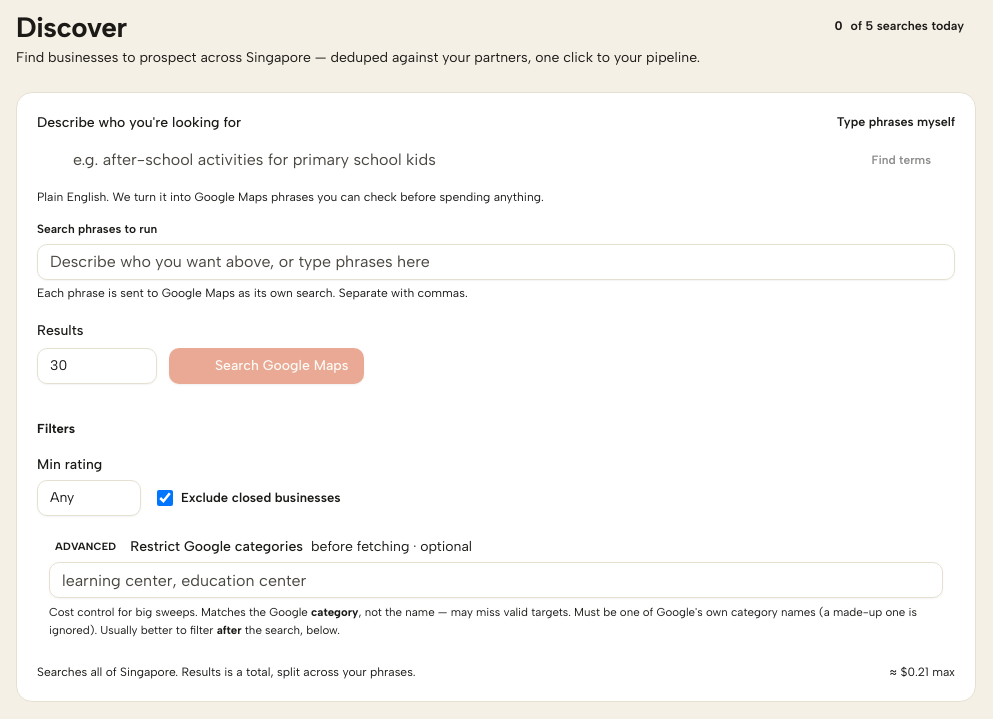
Scenario: DiscoverPage › AI suggest populates the terms field and never starts a paid search
# AI is the DEFAULT mode — the description box is there without revealing it.
Step 1. Type "martial arts for kids" into the field labelled "Describe who you're looking for" → {"x": 462, "y": 160}, box [73,144,851,176]
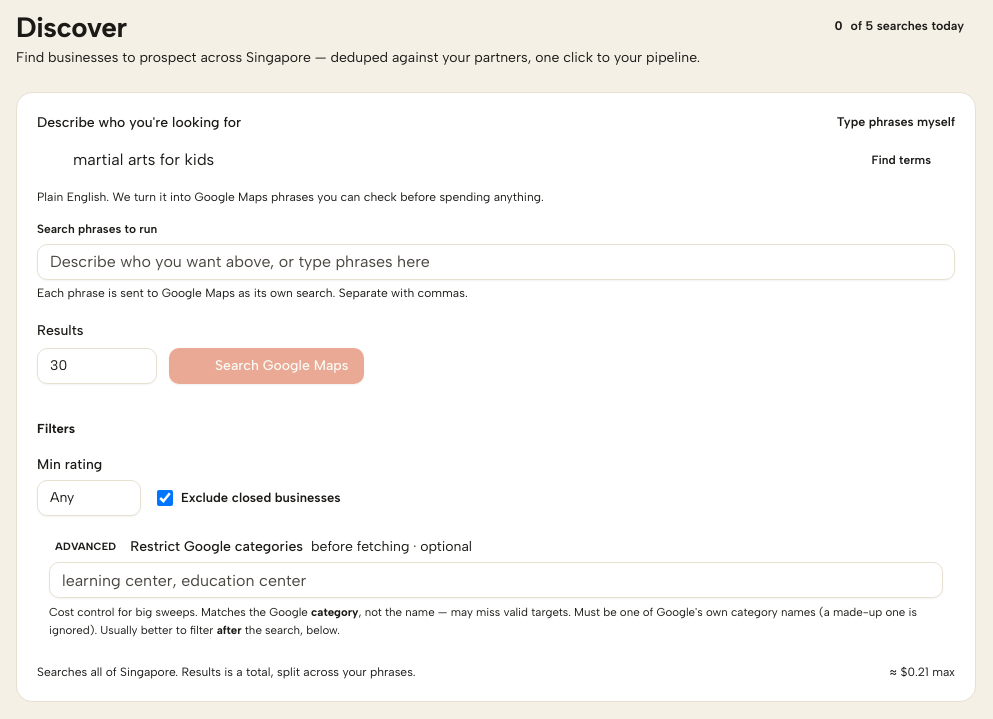
Step 2. Click the button "Find terms" → {"x": 901, "y": 160}, box [859,144,943,176]
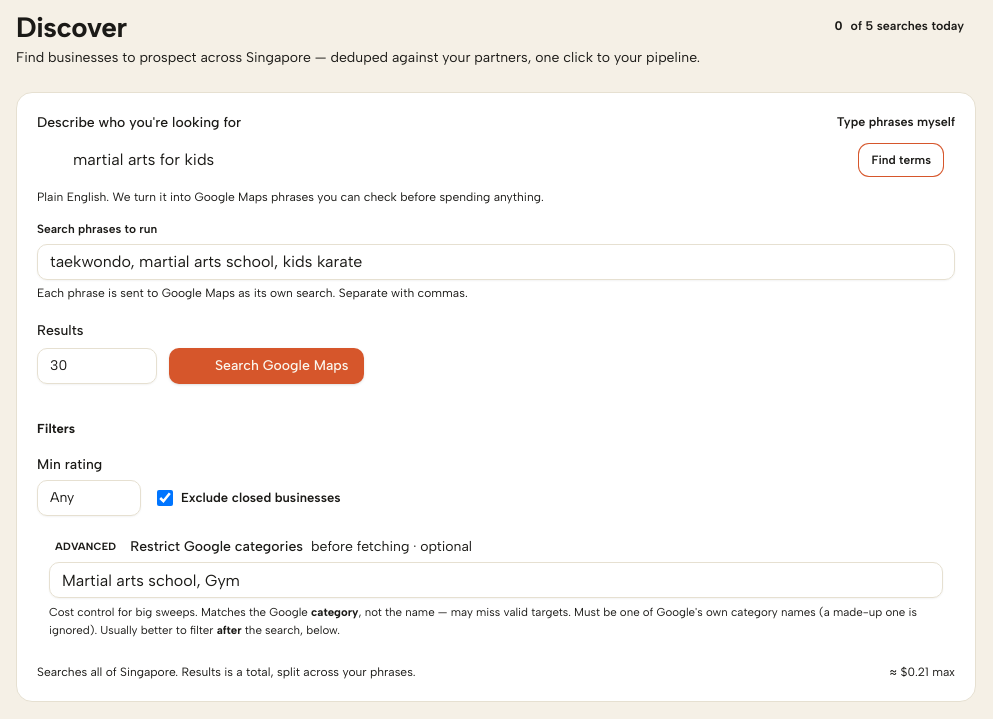
Check: the field labelled "Search phrases to run" holds "taekwondo, martial arts school, kids karate", box [37,244,955,280]
Check: the field with placeholder "learning center, education center" holds "Martial arts school, Gym", box [49,562,943,598]
